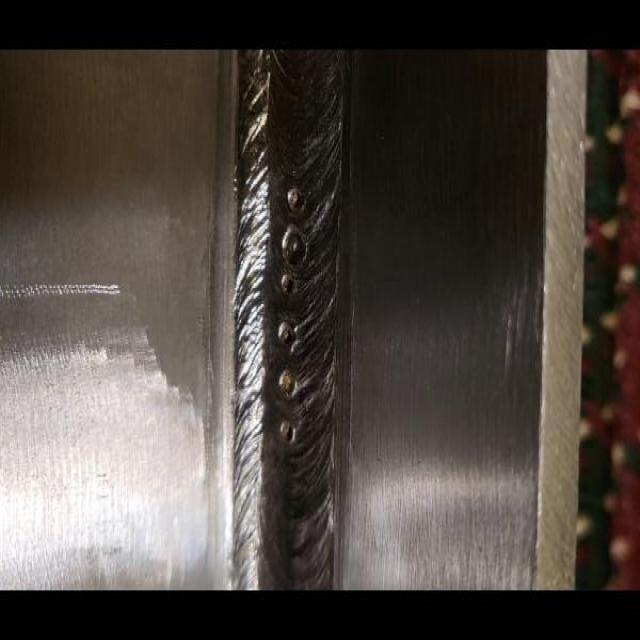Welding Line: (240, 48, 338, 592)
Workpiece: (0, 52, 573, 592)
porosity: (278, 184, 305, 446)
